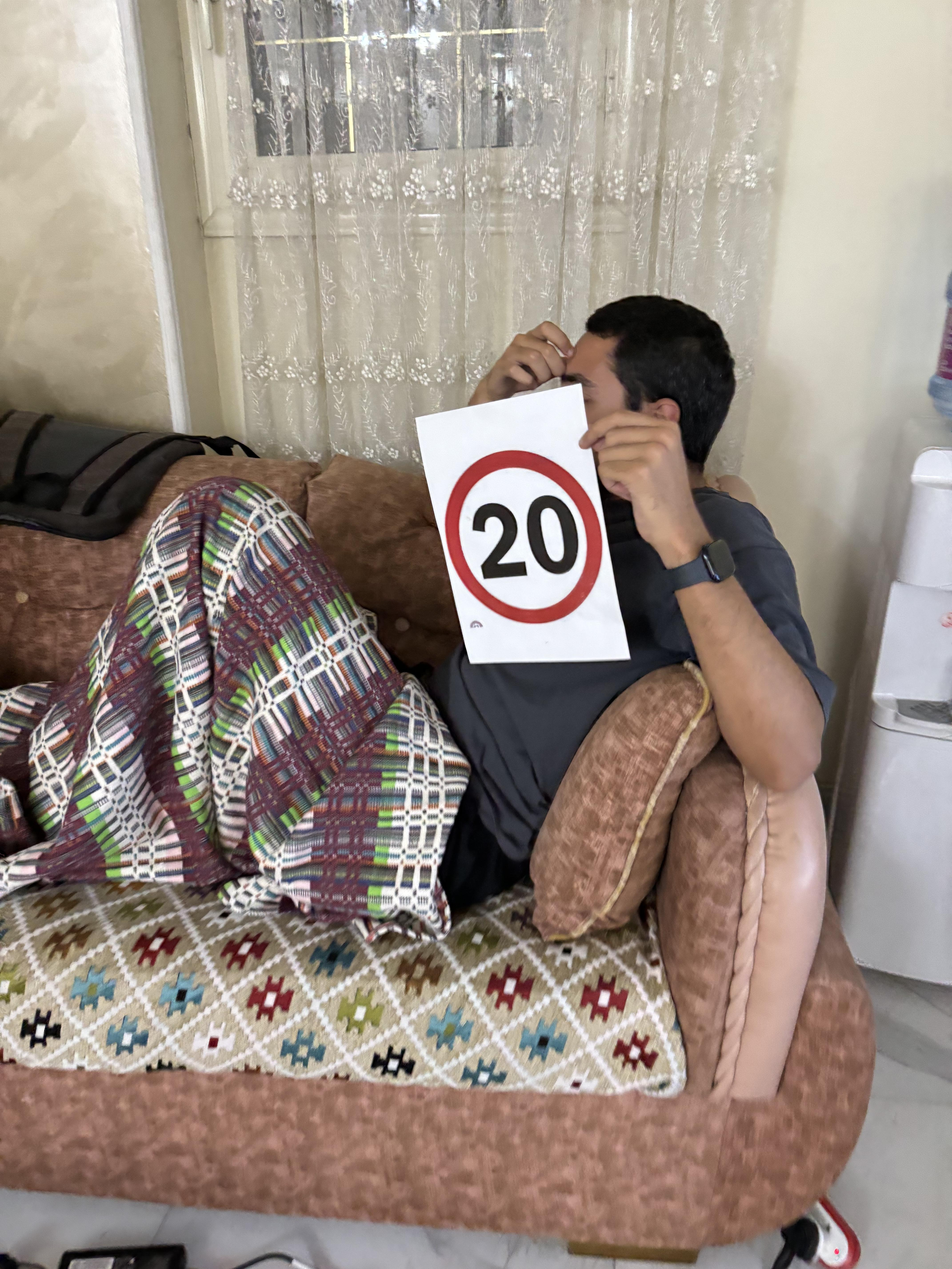20-Speed: (443, 456, 605, 616)
